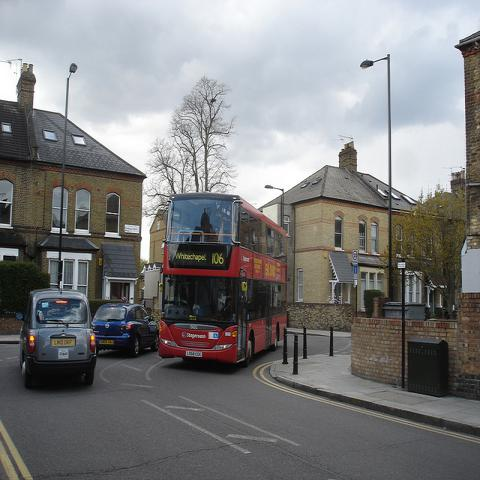bus: (158, 191, 290, 368)
car: (15, 282, 99, 390), (92, 302, 159, 356)
